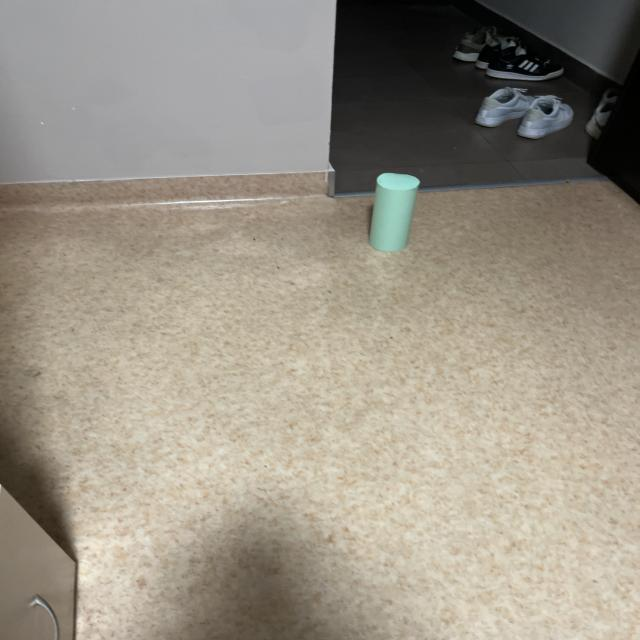meta: (369, 173, 420, 251)
